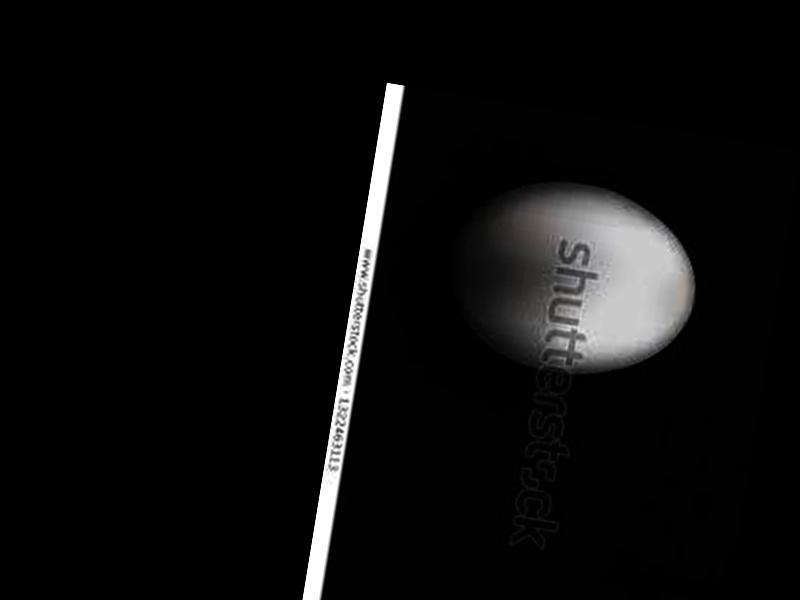Eggs: (437, 163, 713, 388)
